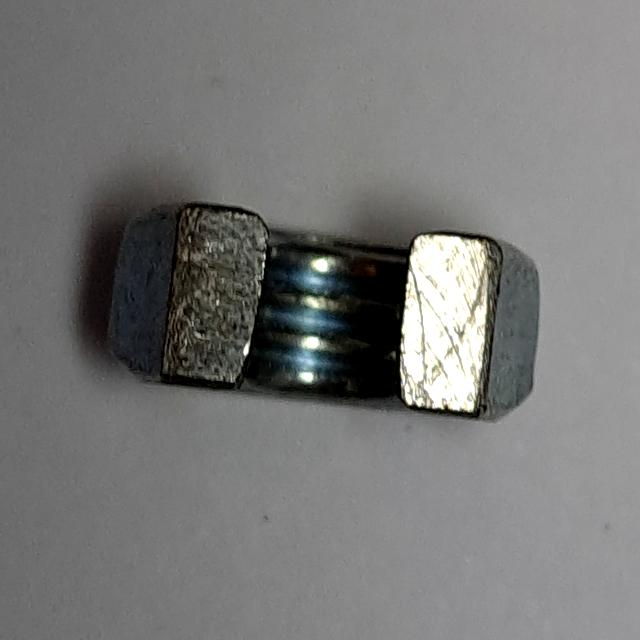Side-Fracture: (93, 181, 558, 433)
